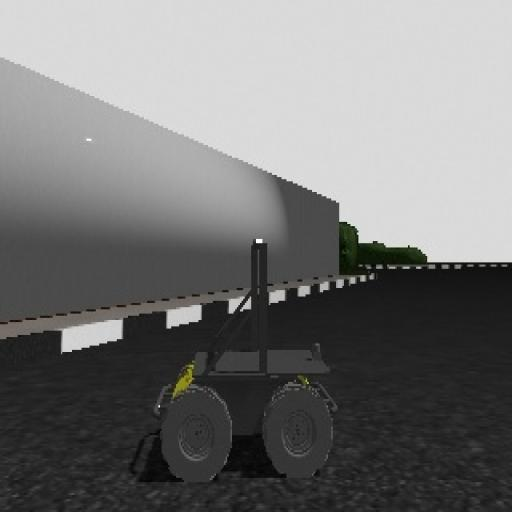huskya200: (143, 230, 349, 480)
